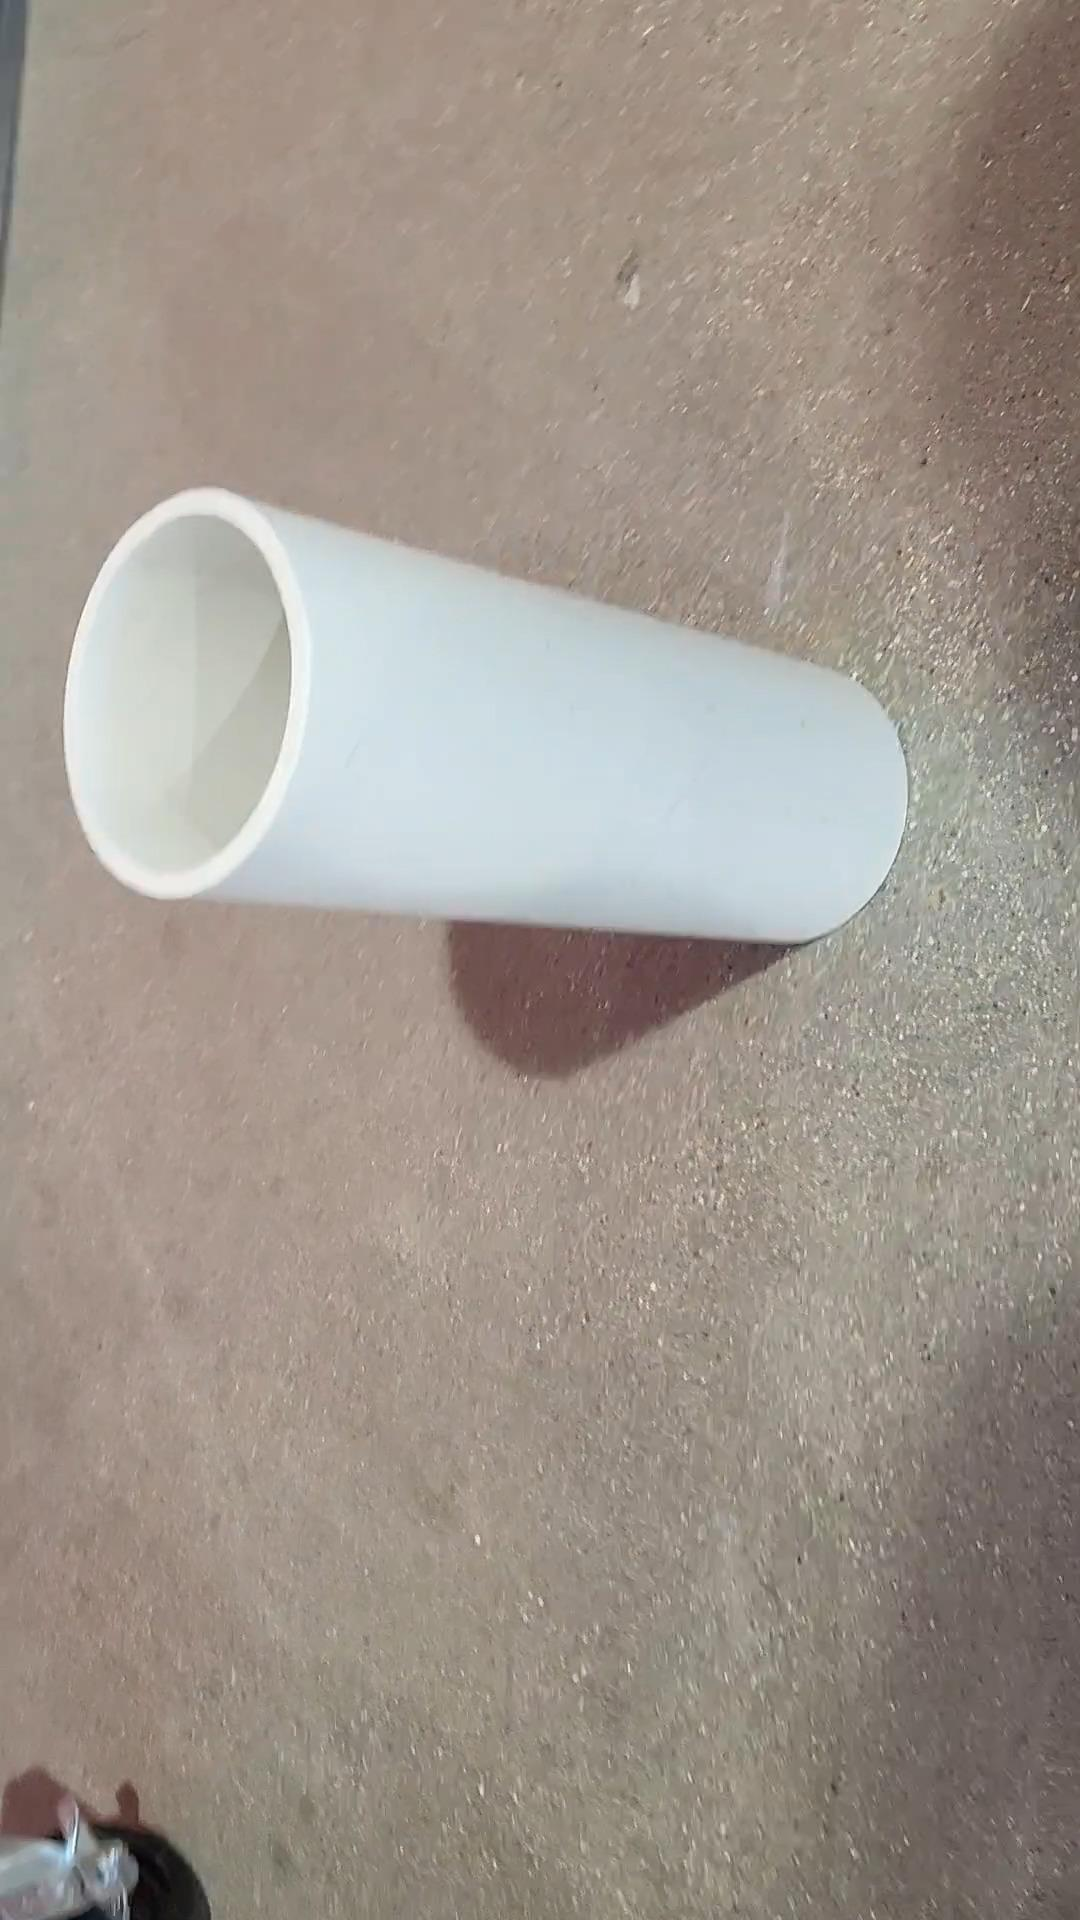coral: (67, 484, 910, 947)
